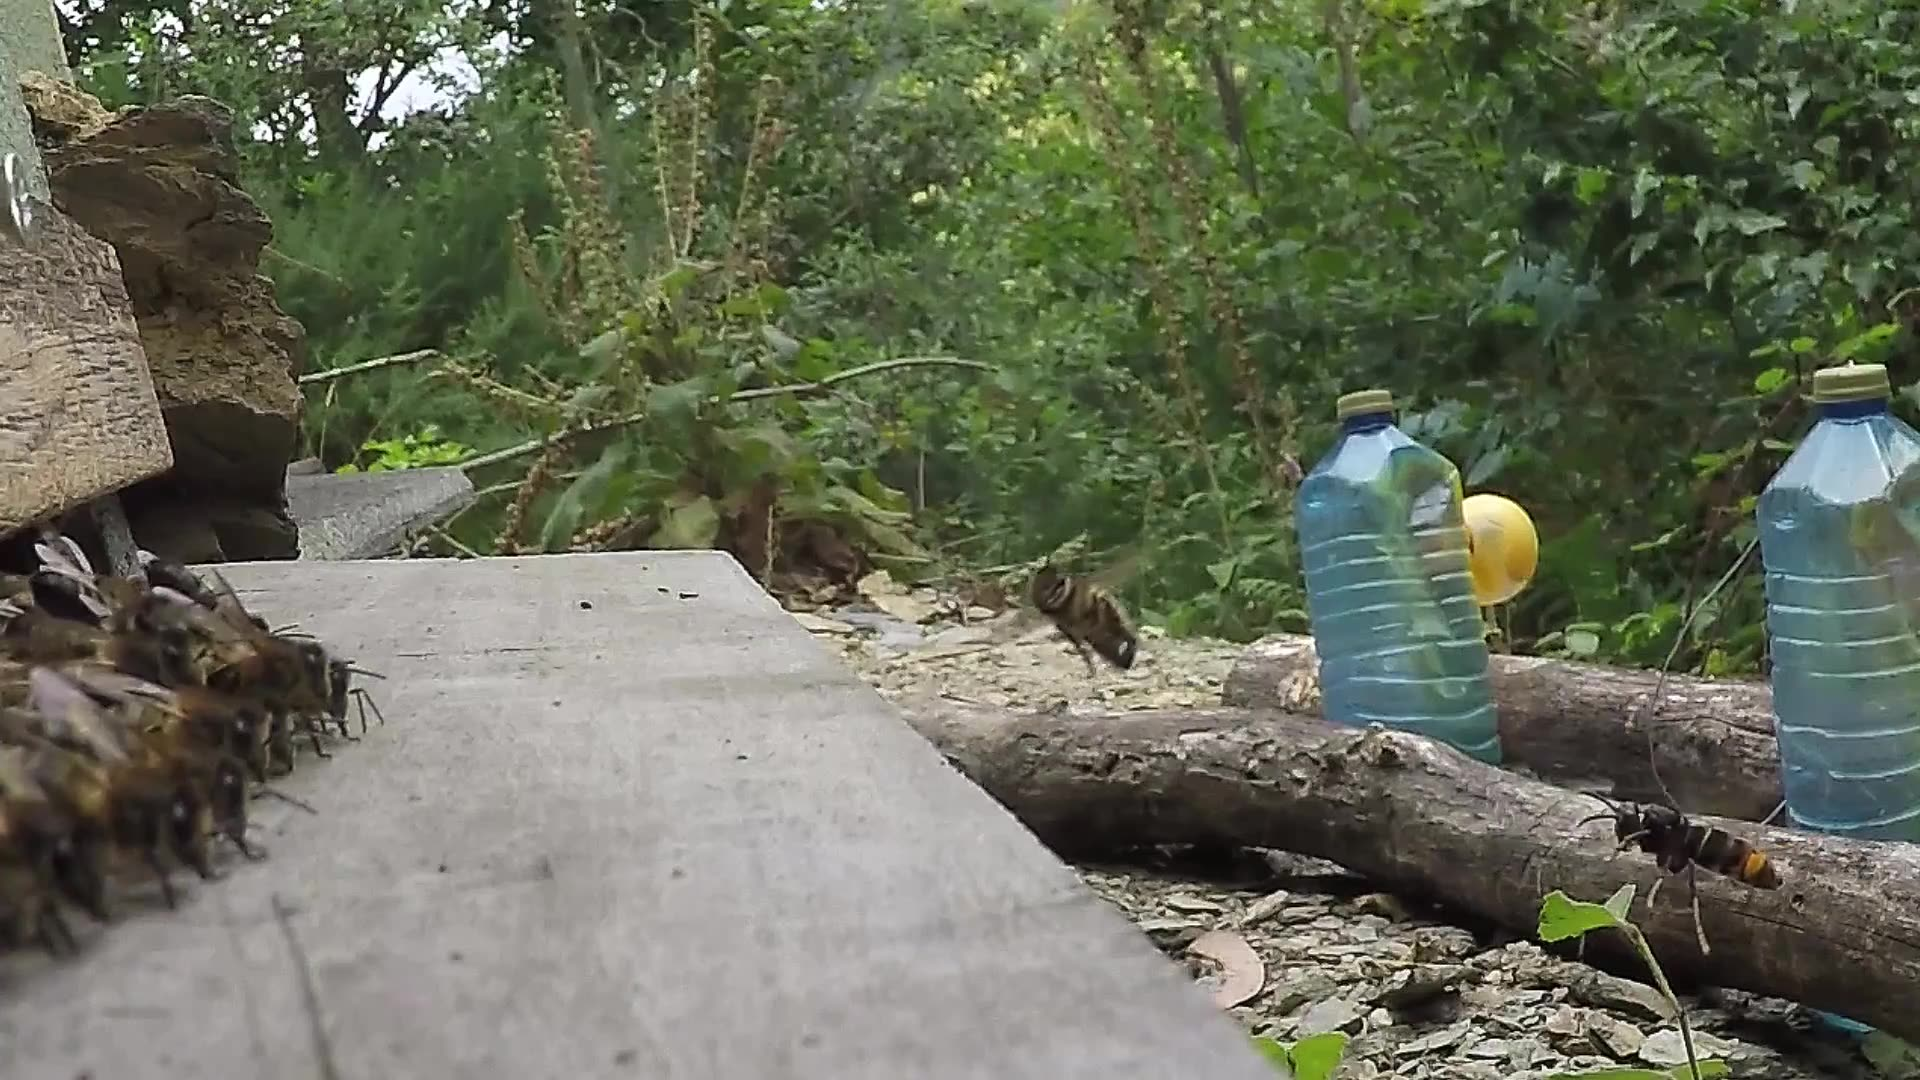bee: (1, 520, 382, 955), (1015, 549, 1147, 686)
hornet: (1600, 791, 1793, 913)
